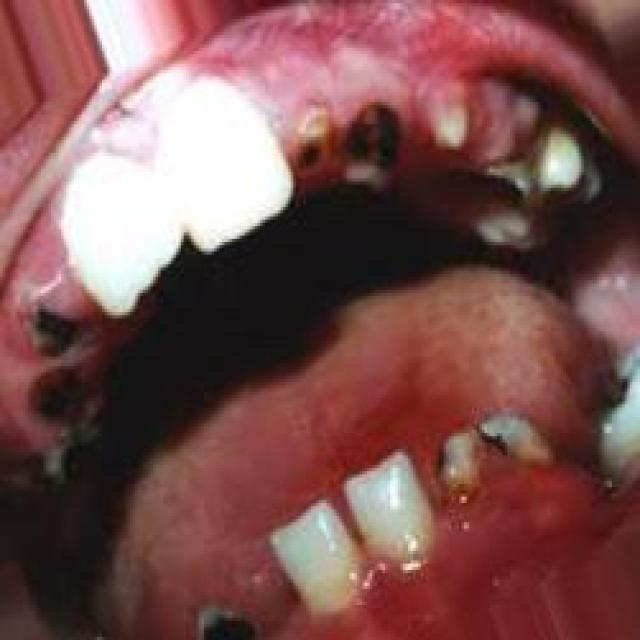caries: (432, 417, 526, 502), (10, 360, 99, 444), (17, 282, 99, 366), (344, 82, 404, 193), (587, 329, 640, 430), (286, 91, 335, 185), (185, 590, 273, 640)
